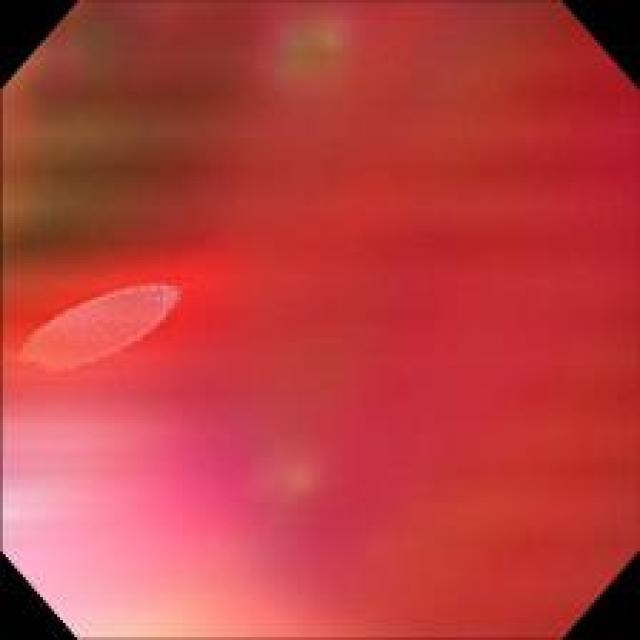color misalignment: (5, 5, 632, 634), (5, 399, 469, 616), (0, 4, 230, 279), (228, 1, 402, 105), (11, 284, 190, 384)
